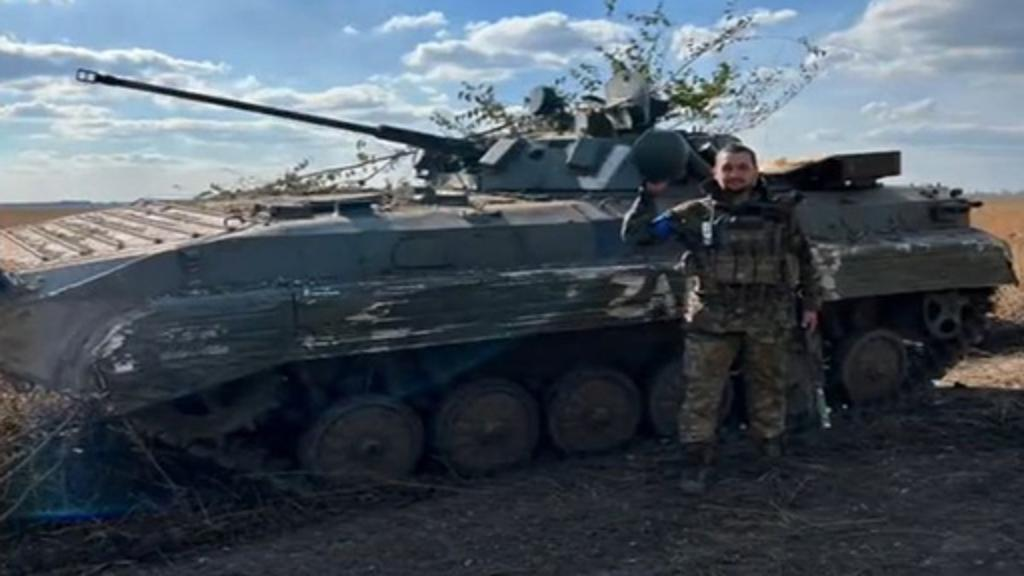APC-IFV: (8, 50, 1010, 502)
